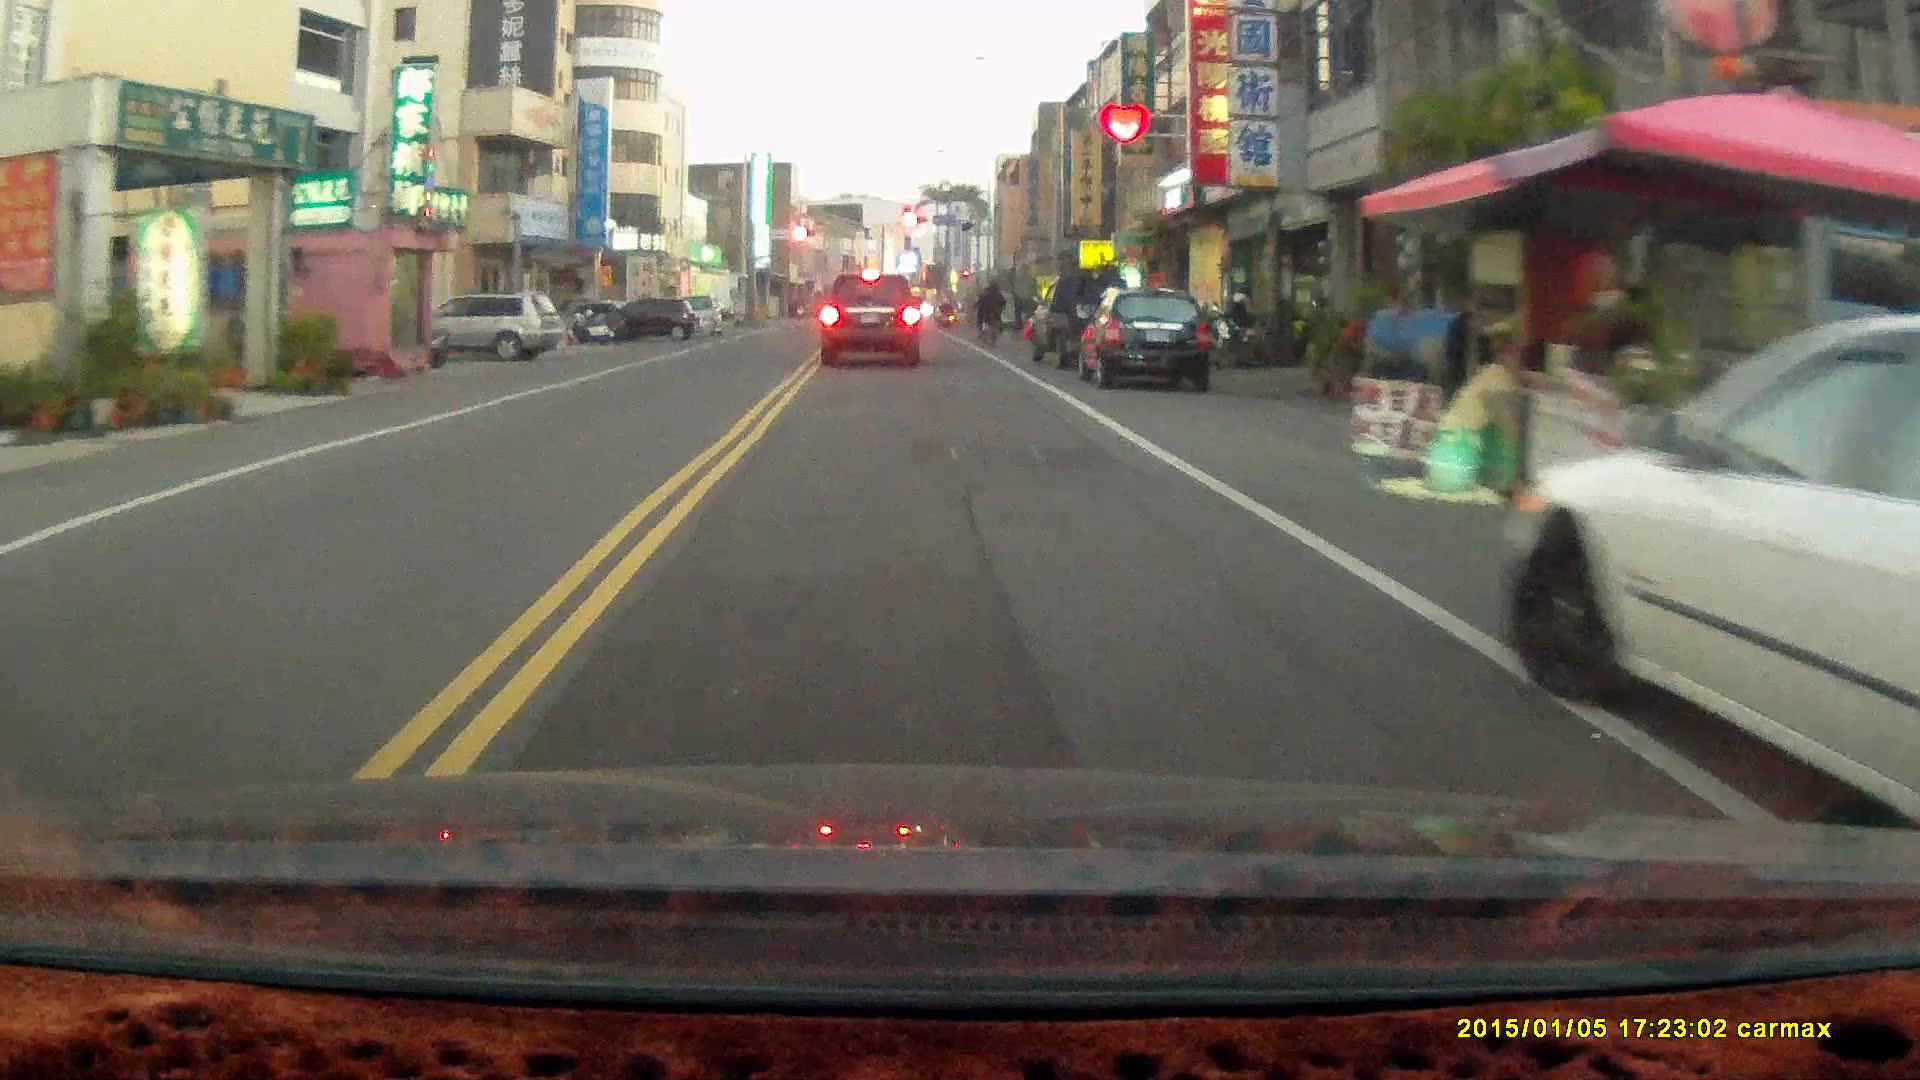rider: (975, 276, 1005, 350)
vehicle: (1520, 293, 1920, 826), (1080, 282, 1218, 391), (392, 295, 563, 367), (818, 270, 923, 369), (585, 296, 699, 344)
